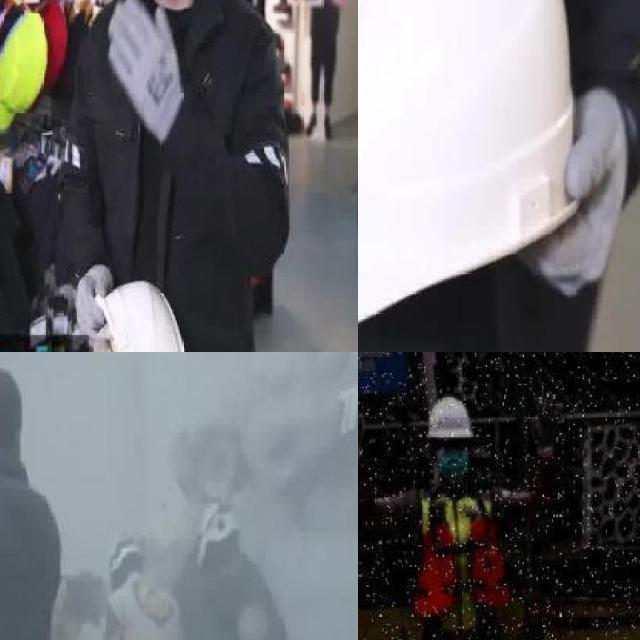apron: (521, 84, 629, 304), (102, 0, 183, 146), (77, 264, 111, 348), (528, 387, 565, 460), (358, 389, 368, 465)
